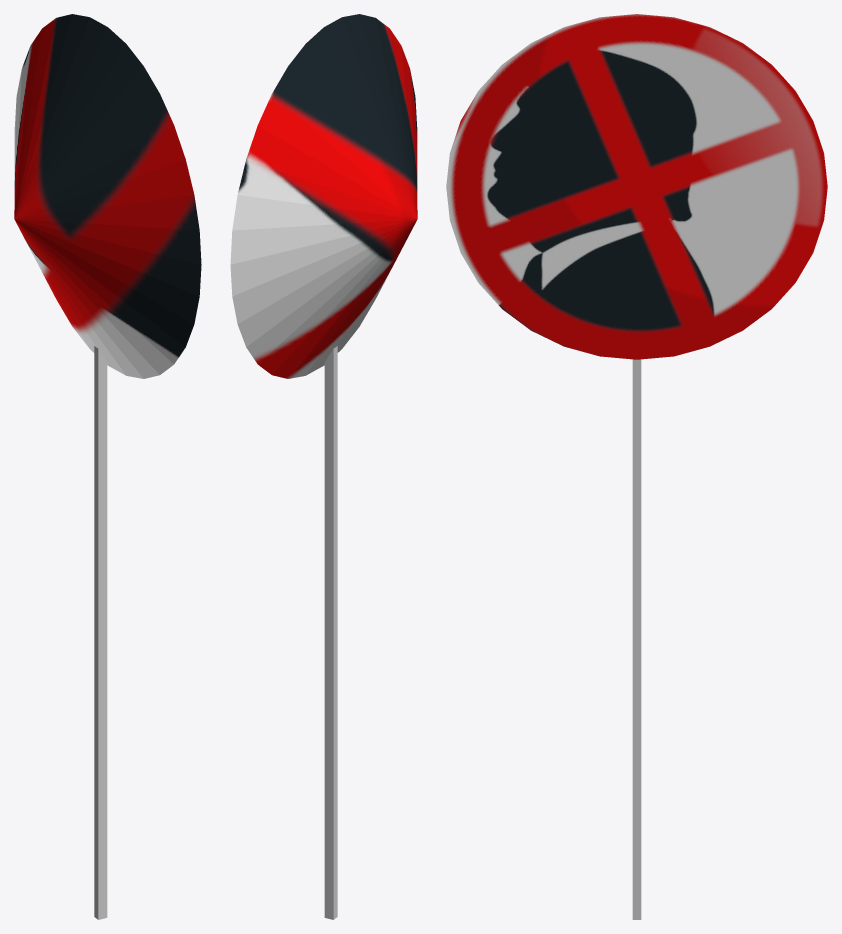
Rendered from trump_forbidden.glb.
3 renders of one model, left to right at view 1: azimuth 30°, elevation 25°; view 2: azimuth 150°, elevation 25°; view 3: azimuth 270°, elevation 25°, orthographic. The views are drawn at different scales.
Parts seen in each view (by area): view 1: Cone, Cube; view 2: Cone, Cube; view 3: Cone, Cube.
Boxes of the visible parts, left/top/right/bottom form: Cone: left=14, top=14, right=201, bottom=378; Cube: left=94, top=346, right=107, bottom=919; Cone: left=230, top=14, right=417, bottom=378; Cube: left=324, top=346, right=337, bottom=919; Cone: left=446, top=14, right=827, bottom=359; Cube: left=632, top=359, right=641, bottom=919.
Bounding box in the file's own units: 0.5792 × 5.25 × 2.
Materials: 1 (1 with a texture image).
